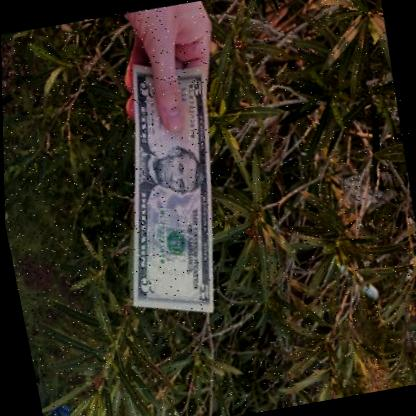five-front: (131, 64, 214, 312)
